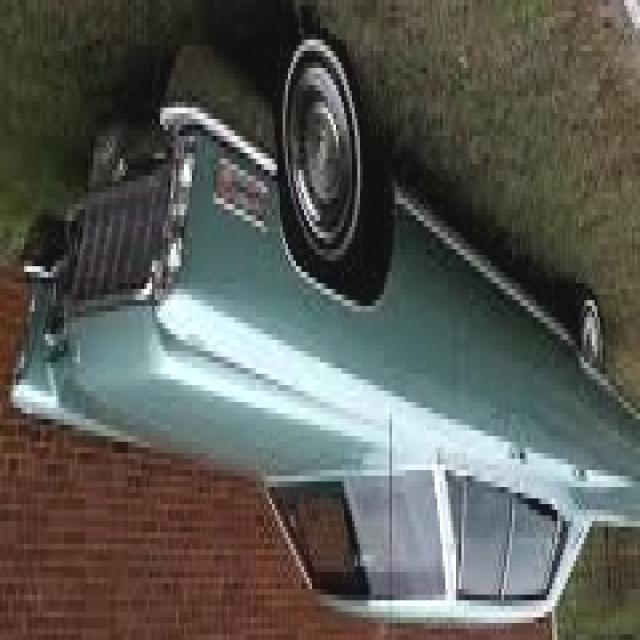green: (8, 22, 640, 628)
